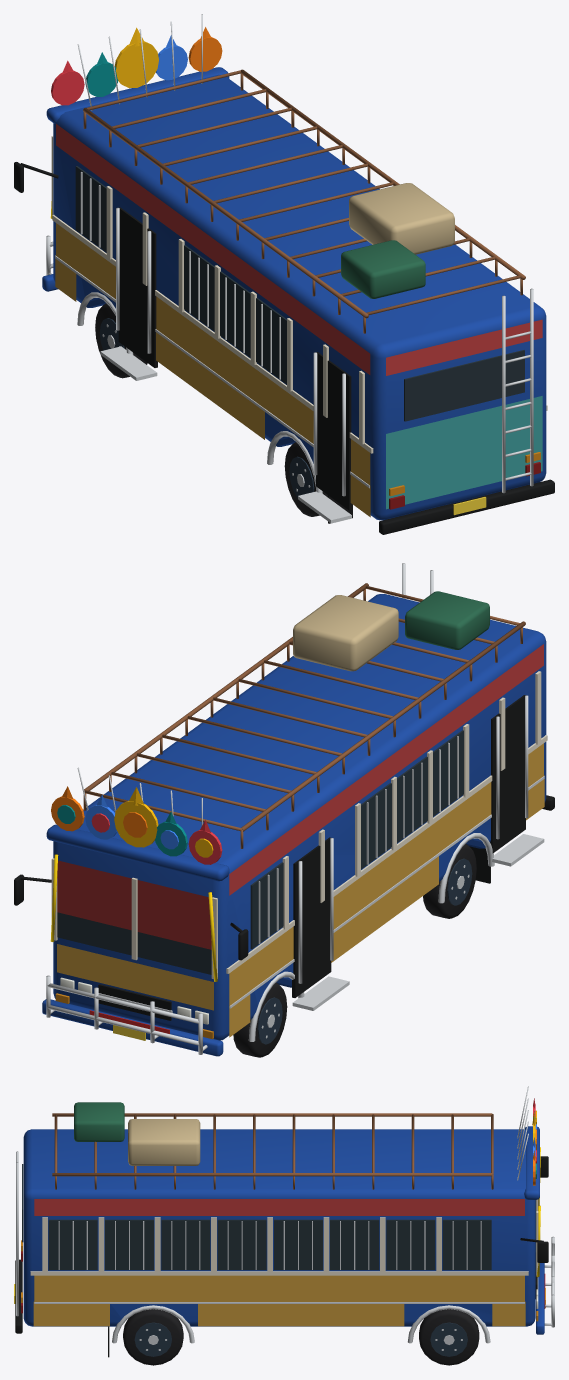
File: minibus.glb
3 views of the same model, one above another, from view 1: azimuth 30°, elevation 25°; view 2: azimuth 150°, elevation 25°; view 3: azimuth 270°, elevation 25° (orthographic). The views are drawn at different scales.
Visible parts, largest first — view 1: shell, art_rear, art_upper.001, art_top.001, luggage, rear_win, doorway, doorway.001, luggage2, art_lower.003, art_rear_top, bumper_r (+22 smaller); view 2: shell, art_upper.001, art_screen, art_top.001, luggage, doorway, art_nose, doorway.001, screen_low, luggage2, art_lower.003, visor (+31 smaller); view 3: shell, art_upper, art_top, art_lower, luggage, wheel_RR, wheel_FR, win, win.001, win.004, win.005, win.002 (+19 smaller).
Boxes of the visible parts, x1,y1,x2,y2 form: shell: (53,74,546,520); art_rear: (386,396,542,509); art_upper.001: (56,223,370,484); art_top.001: (56,124,370,374); luggage: (349,183,454,254); rear_win: (404,350,524,421); doorway: (118,207,157,367); doorway.001: (316,352,352,510); luggage2: (341,240,425,298); art_lower.003: (156,329,264,439); art_rear_top: (386,319,542,375); bumper_r: (379,479,554,534); shell: (53,594,546,1040); art_upper.001: (229,743,543,1005); art_screen: (57,860,211,949); art_top.001: (229,644,543,895); luggage: (293,595,398,671); doorway: (292,837,331,997); art_nose: (57,944,213,1010); doorway.001: (490,695,525,853); screen_low: (57,912,211,974); luggage2: (405,591,489,649); art_lower.003: (331,852,438,962); visor: (46,824,229,881); shell: (23,1129,535,1326); art_upper: (34,1275,524,1301); art_top: (34,1199,524,1215); art_lower: (198,1301,404,1326); luggage: (128,1119,200,1165); wheel_RR: (123,1309,183,1365); wheel_FR: (419,1309,479,1365); win: (442,1219,491,1269); win.001: (386,1219,435,1269); win.004: (217,1219,266,1269); win.005: (161,1219,210,1269); win.002: (330,1219,379,1269).
Size of the model in its own units: 2.85 by 3.47 by 7.5.
